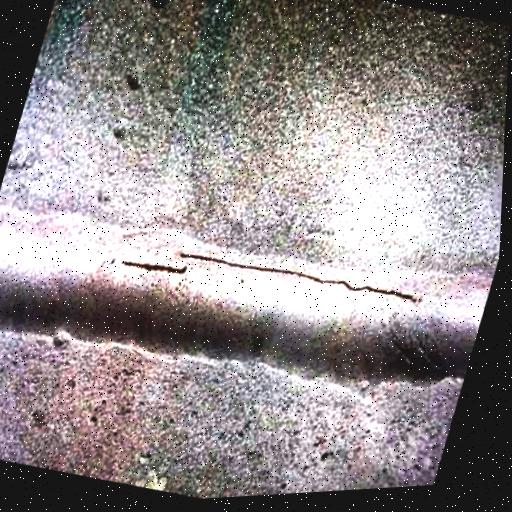crack: (167, 224, 433, 332), (120, 250, 198, 291)
